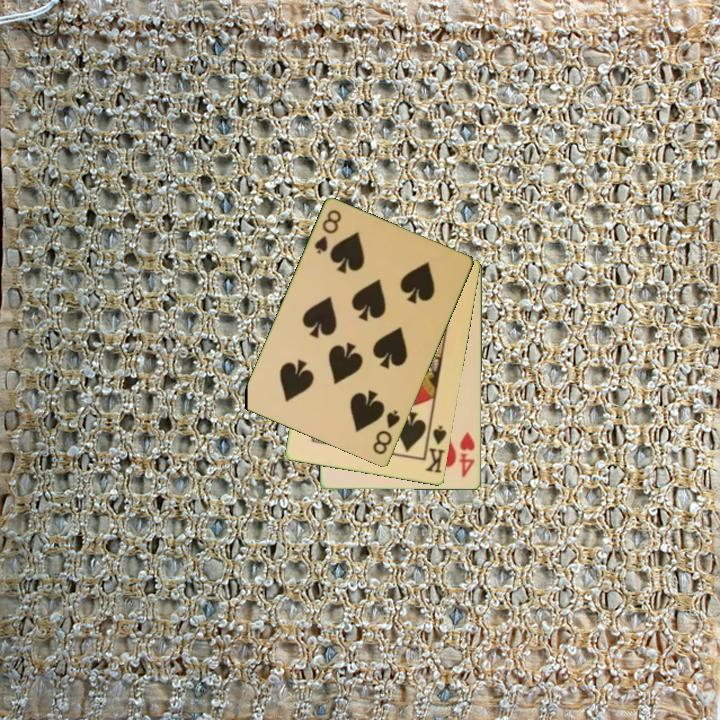4h: (456, 428, 478, 480)
8s: (369, 407, 403, 458), (311, 206, 345, 257)
Ks: (422, 422, 449, 476)
